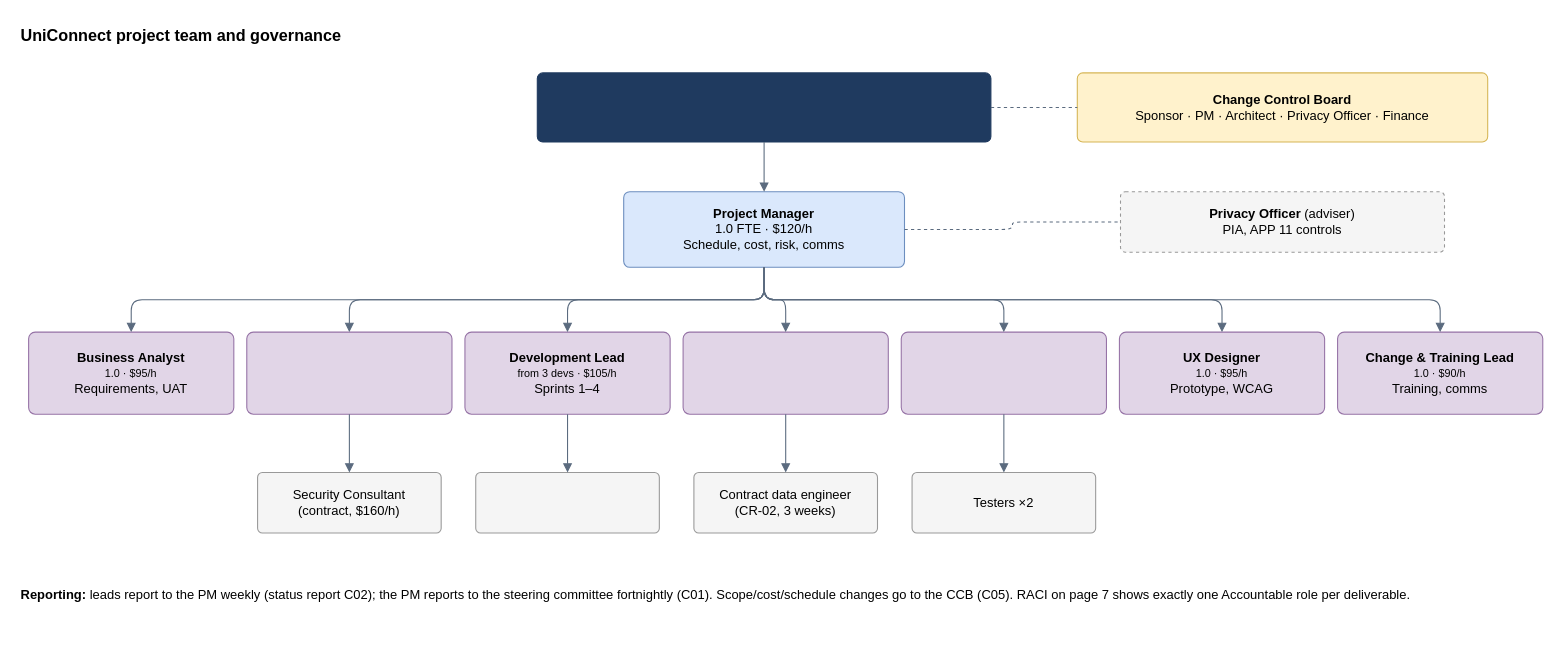
The diagram is 1562 pixels wide and 663 high, and some of its shapes have lost their labels. Here are the shapes that lost their labels. From the top down, the centre of each, then its label:
point (763, 107): Steering committee DVC Education (Sponsor, chair) · CIO · Registrar · Finance
point (349, 372): Solution Architect 1.0 · $140/h SSO, APIs, load
point (785, 372): Data Engineer 1.0 · $110/h Migration
point (1003, 372): Test Lead from 2 testers · $85/h SIT, regression
point (567, 502): Developers ×3 (Agile squad)
